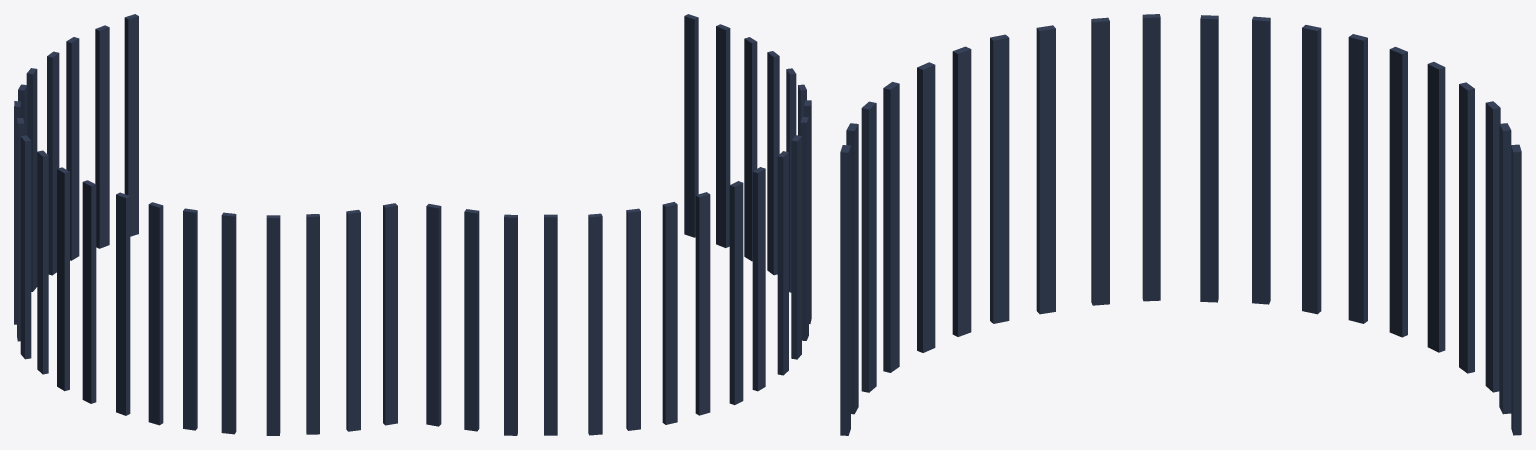
Rendered from sm_pillar.fbx.
The picture shows the model from 3 angles, left to right: view 1: azimuth 30°, elevation 25°; view 2: azimuth 150°, elevation 25°; view 3: azimuth 270°, elevation 25°; orthographic projection. The views are drawn at different scales.
Parts seen in each view (by area): view 1: sm_pillar; view 2: sm_pillar; view 3: sm_pillar.
Part boxes in pixels (x1,y1,x2,y2): sm_pillar: [14, 14, 397, 435]; sm_pillar: [426, 14, 811, 435]; sm_pillar: [840, 14, 1521, 435].
Size of the model in its own units: 398 by 378 by 825.
